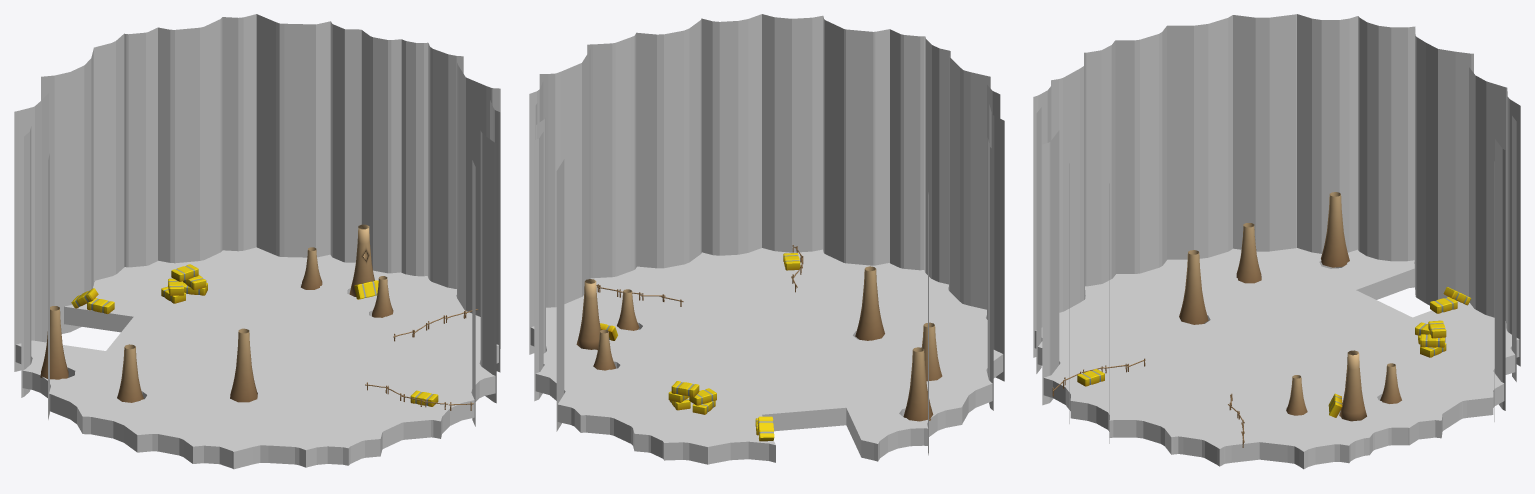
File: environment_col.glb
3 renders of one model, left to right at view 1: azimuth 30°, elevation 25°; view 2: azimuth 150°, elevation 25°; view 3: azimuth 270°, elevation 25°, orthographic.
Parts seen in each view (by area): view 1: Arena.002, Arena.003, TreeTrunk.012, TreeTrunk.007, TreeTrunk.011, TreeTrunk.008, TreeTrunk.009, TreeTrunk.010; view 2: Arena.002, Arena.003, TreeTrunk.012, TreeTrunk.007, TreeTrunk.008, TreeTrunk.011, TreeTrunk.010, TreeTrunk.009; view 3: Arena.002, Arena.003, TreeTrunk.007, TreeTrunk.012, TreeTrunk.008, TreeTrunk.011, TreeTrunk.009, TreeTrunk.010.
Part boxes in pixels (x1,y1,x2,y2): Arena.002: [14, 14, 500, 426]; Arena.003: [15, 247, 498, 469]; TreeTrunk.012: [230, 328, 257, 402]; TreeTrunk.007: [40, 306, 68, 379]; TreeTrunk.011: [117, 344, 143, 402]; TreeTrunk.008: [349, 224, 374, 296]; TreeTrunk.009: [301, 247, 322, 289]; TreeTrunk.010: [372, 276, 393, 317]; Arena.002: [529, 14, 1004, 455]; Arena.003: [530, 248, 1003, 464]; TreeTrunk.012: [855, 266, 884, 340]; TreeTrunk.007: [903, 347, 933, 421]; TreeTrunk.008: [576, 279, 600, 349]; TreeTrunk.011: [921, 322, 942, 381]; TreeTrunk.010: [617, 289, 639, 330]; TreeTrunk.009: [593, 329, 615, 370]; Arena.002: [1033, 14, 1520, 443]; Arena.003: [1034, 248, 1519, 469]; TreeTrunk.007: [1321, 192, 1349, 267]; TreeTrunk.012: [1179, 250, 1208, 324]; TreeTrunk.008: [1339, 350, 1366, 421]; TreeTrunk.011: [1236, 223, 1261, 283]; TreeTrunk.009: [1380, 363, 1401, 403]; TreeTrunk.010: [1286, 375, 1307, 415].
Size of the model in its own units: 288 by 171 by 289.
Materials: 1 (1 with a texture image).
